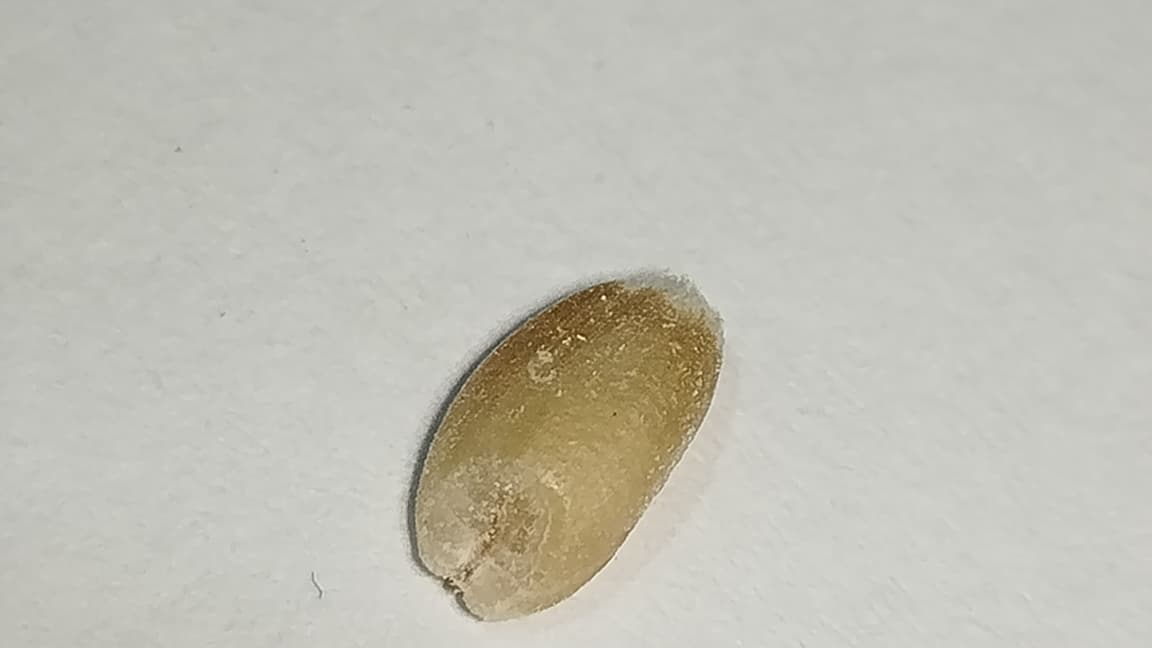damage: (416, 274, 722, 618)
insectdamage: (412, 439, 571, 606)
